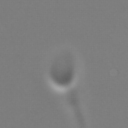normal: (54, 91, 102, 128)
